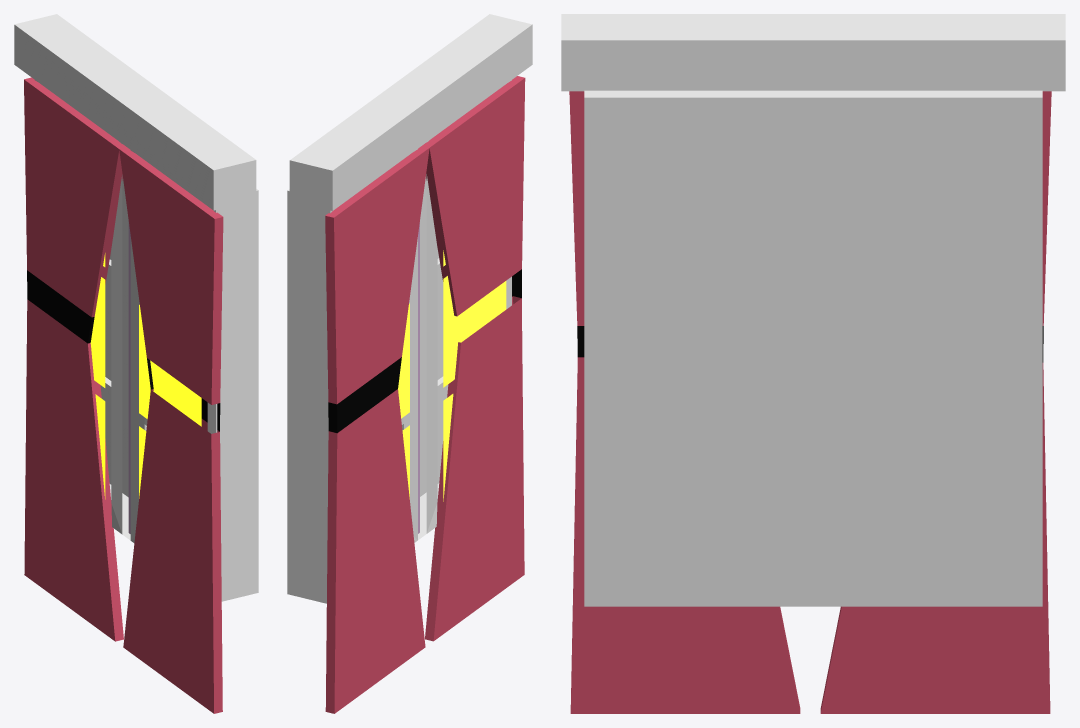
The model's file is Window.fbx.
The picture shows the model from 3 angles, left to right: view 1: azimuth 30°, elevation 25°; view 2: azimuth 150°, elevation 25°; view 3: azimuth 270°, elevation 25°; orthographic projection. The views are drawn at different scales.
Parts seen in each view (by area): view 1: Window; view 2: Window; view 3: Window.
Part boxes in pixels (<box>): Window: <box>14,14,258,713</box>; Window: <box>287,14,532,713</box>; Window: <box>561,14,1065,713</box>.
Bounding box in the file's own units: 68.99 × 666 × 440.
